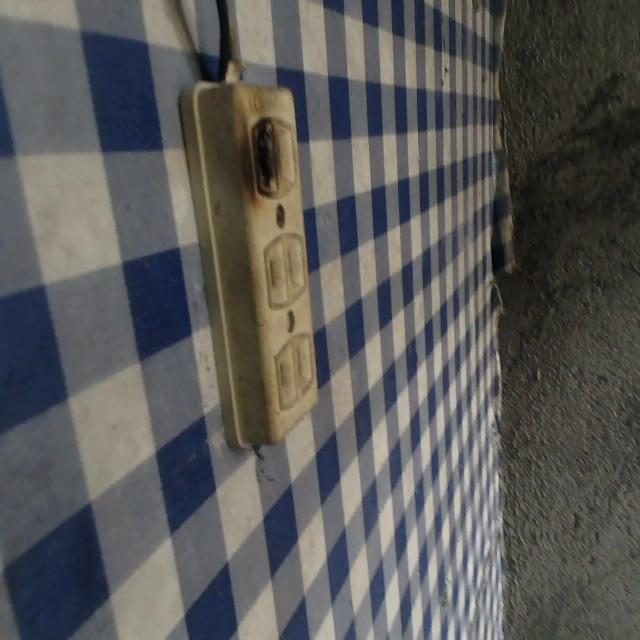-: (230, 102, 294, 206)
